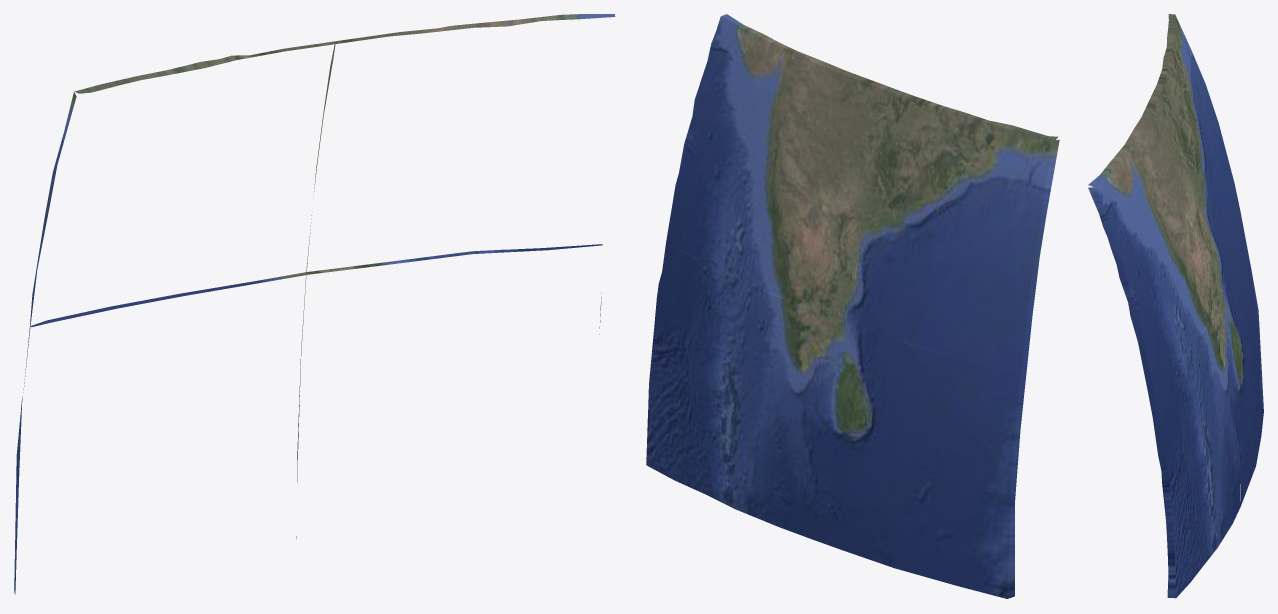
3 renders of one model, left to right at view 1: azimuth 30°, elevation 25°; view 2: azimuth 150°, elevation 25°; view 3: azimuth 270°, elevation 25°, orthographic. The views are drawn at different scales.
Bounding box in the file's own units: 2469355 × 2458682 × 975735.
1 material, 1 textured.
